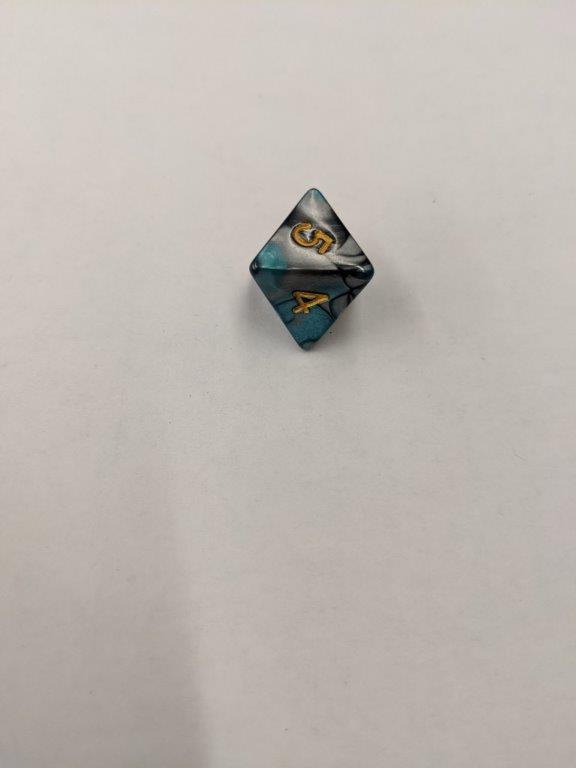d8-5: (248, 186, 379, 353)
